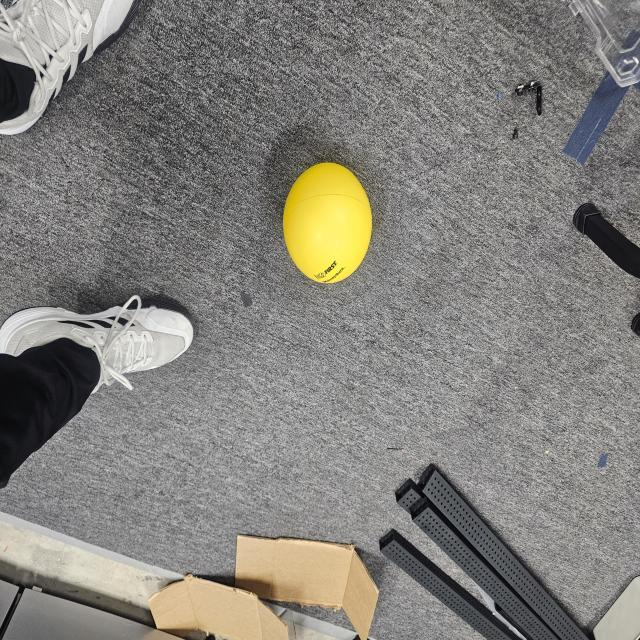Fuel: (276, 154, 380, 291)
